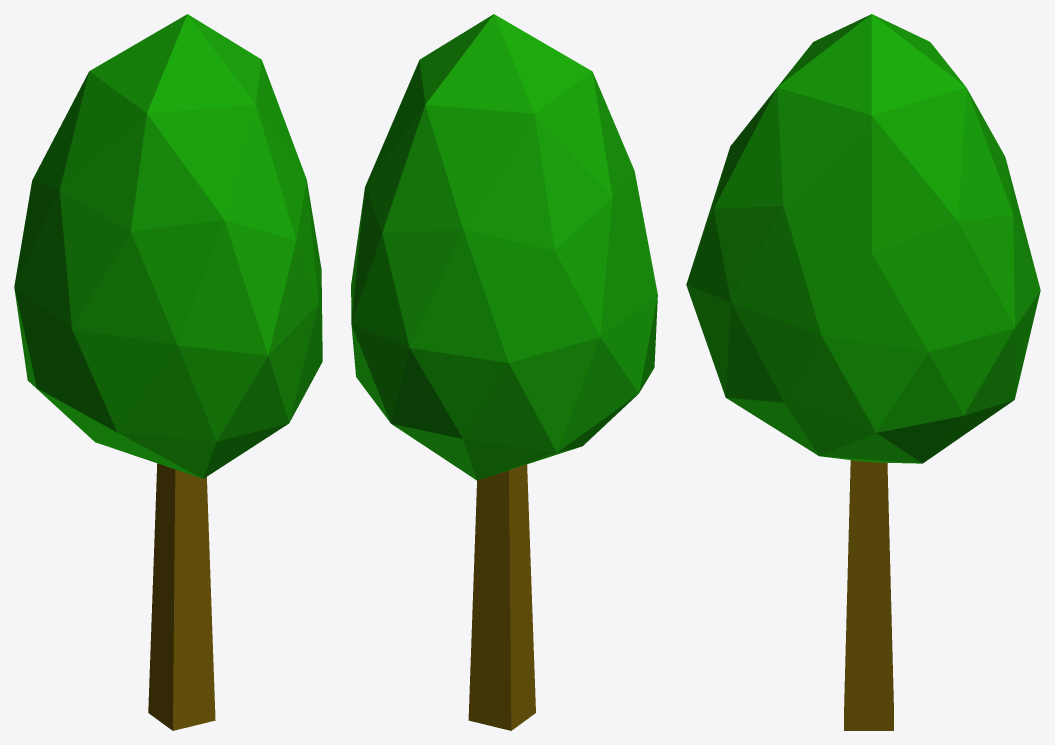
File: sphereical-tree.glb
3 renders of one model, left to right at view 1: azimuth 30°, elevation 25°; view 2: azimuth 150°, elevation 25°; view 3: azimuth 270°, elevation 25°, orthographic.
Parts seen in each view (by area): view 1: SPHEREICAL TREE; view 2: SPHEREICAL TREE; view 3: SPHEREICAL TREE.
Boxes of the visible parts, box(x1,y1,x2,y2) form: SPHEREICAL TREE: box(14, 14, 322, 730); SPHEREICAL TREE: box(351, 14, 657, 730); SPHEREICAL TREE: box(686, 14, 1040, 730).
Size of the model in its own units: 3.5 by 8.88 by 4.02.
Materials: 1 (1 with a texture image).
